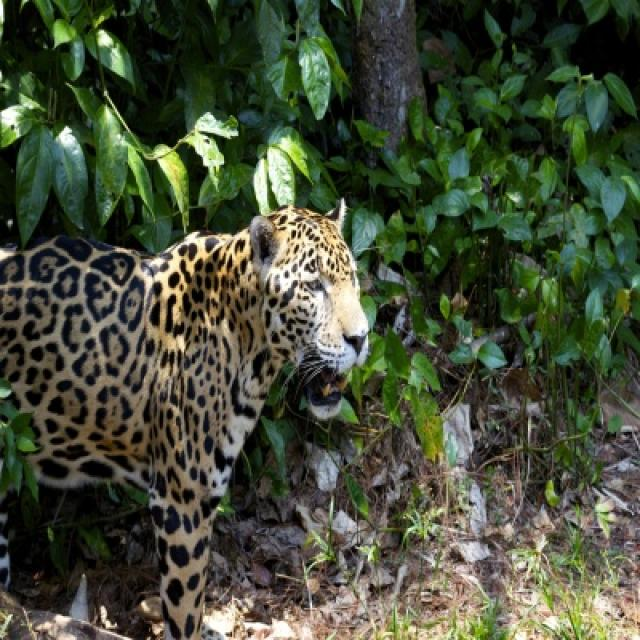Jaguar: (0, 208, 371, 638)
